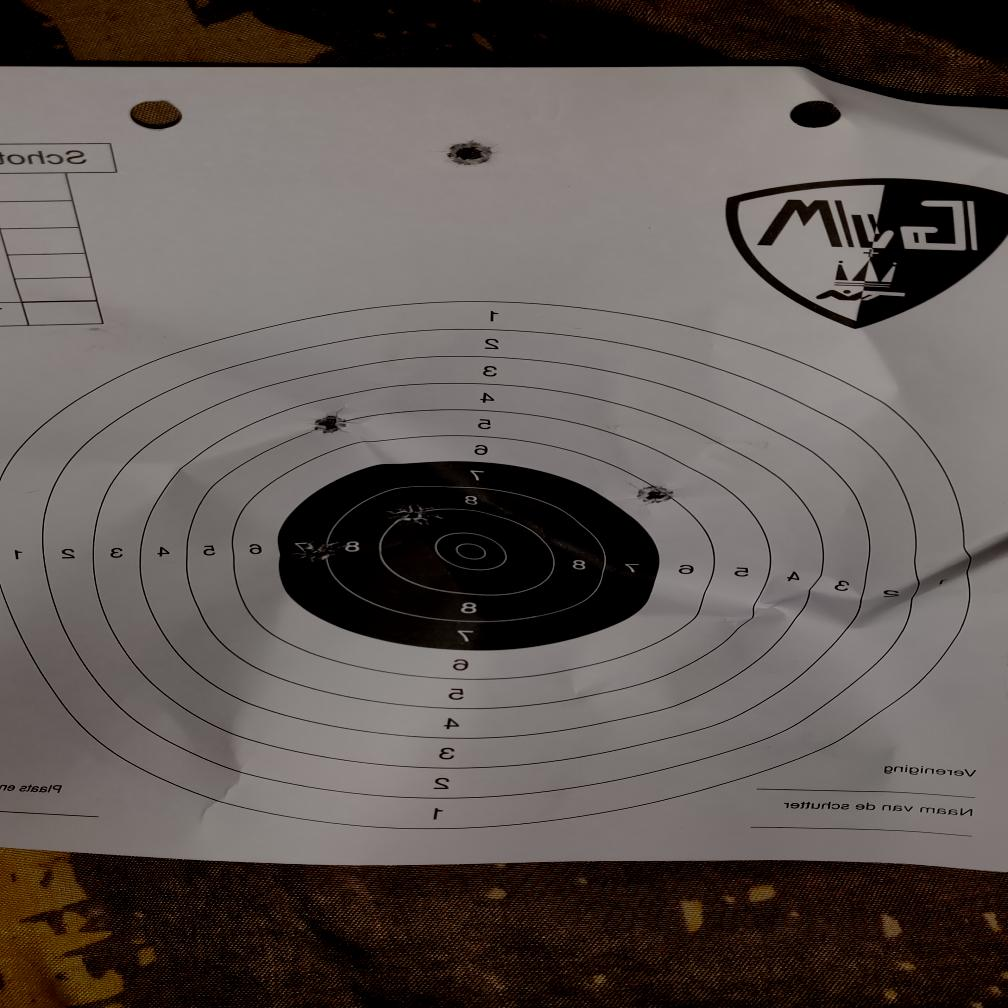0: (441, 140, 491, 169)
5: (304, 407, 358, 434)
7: (632, 484, 678, 505)
8: (294, 539, 343, 566)
9: (387, 504, 442, 525)
Target: (0, 304, 964, 830)
black_contour: (276, 459, 656, 652)
